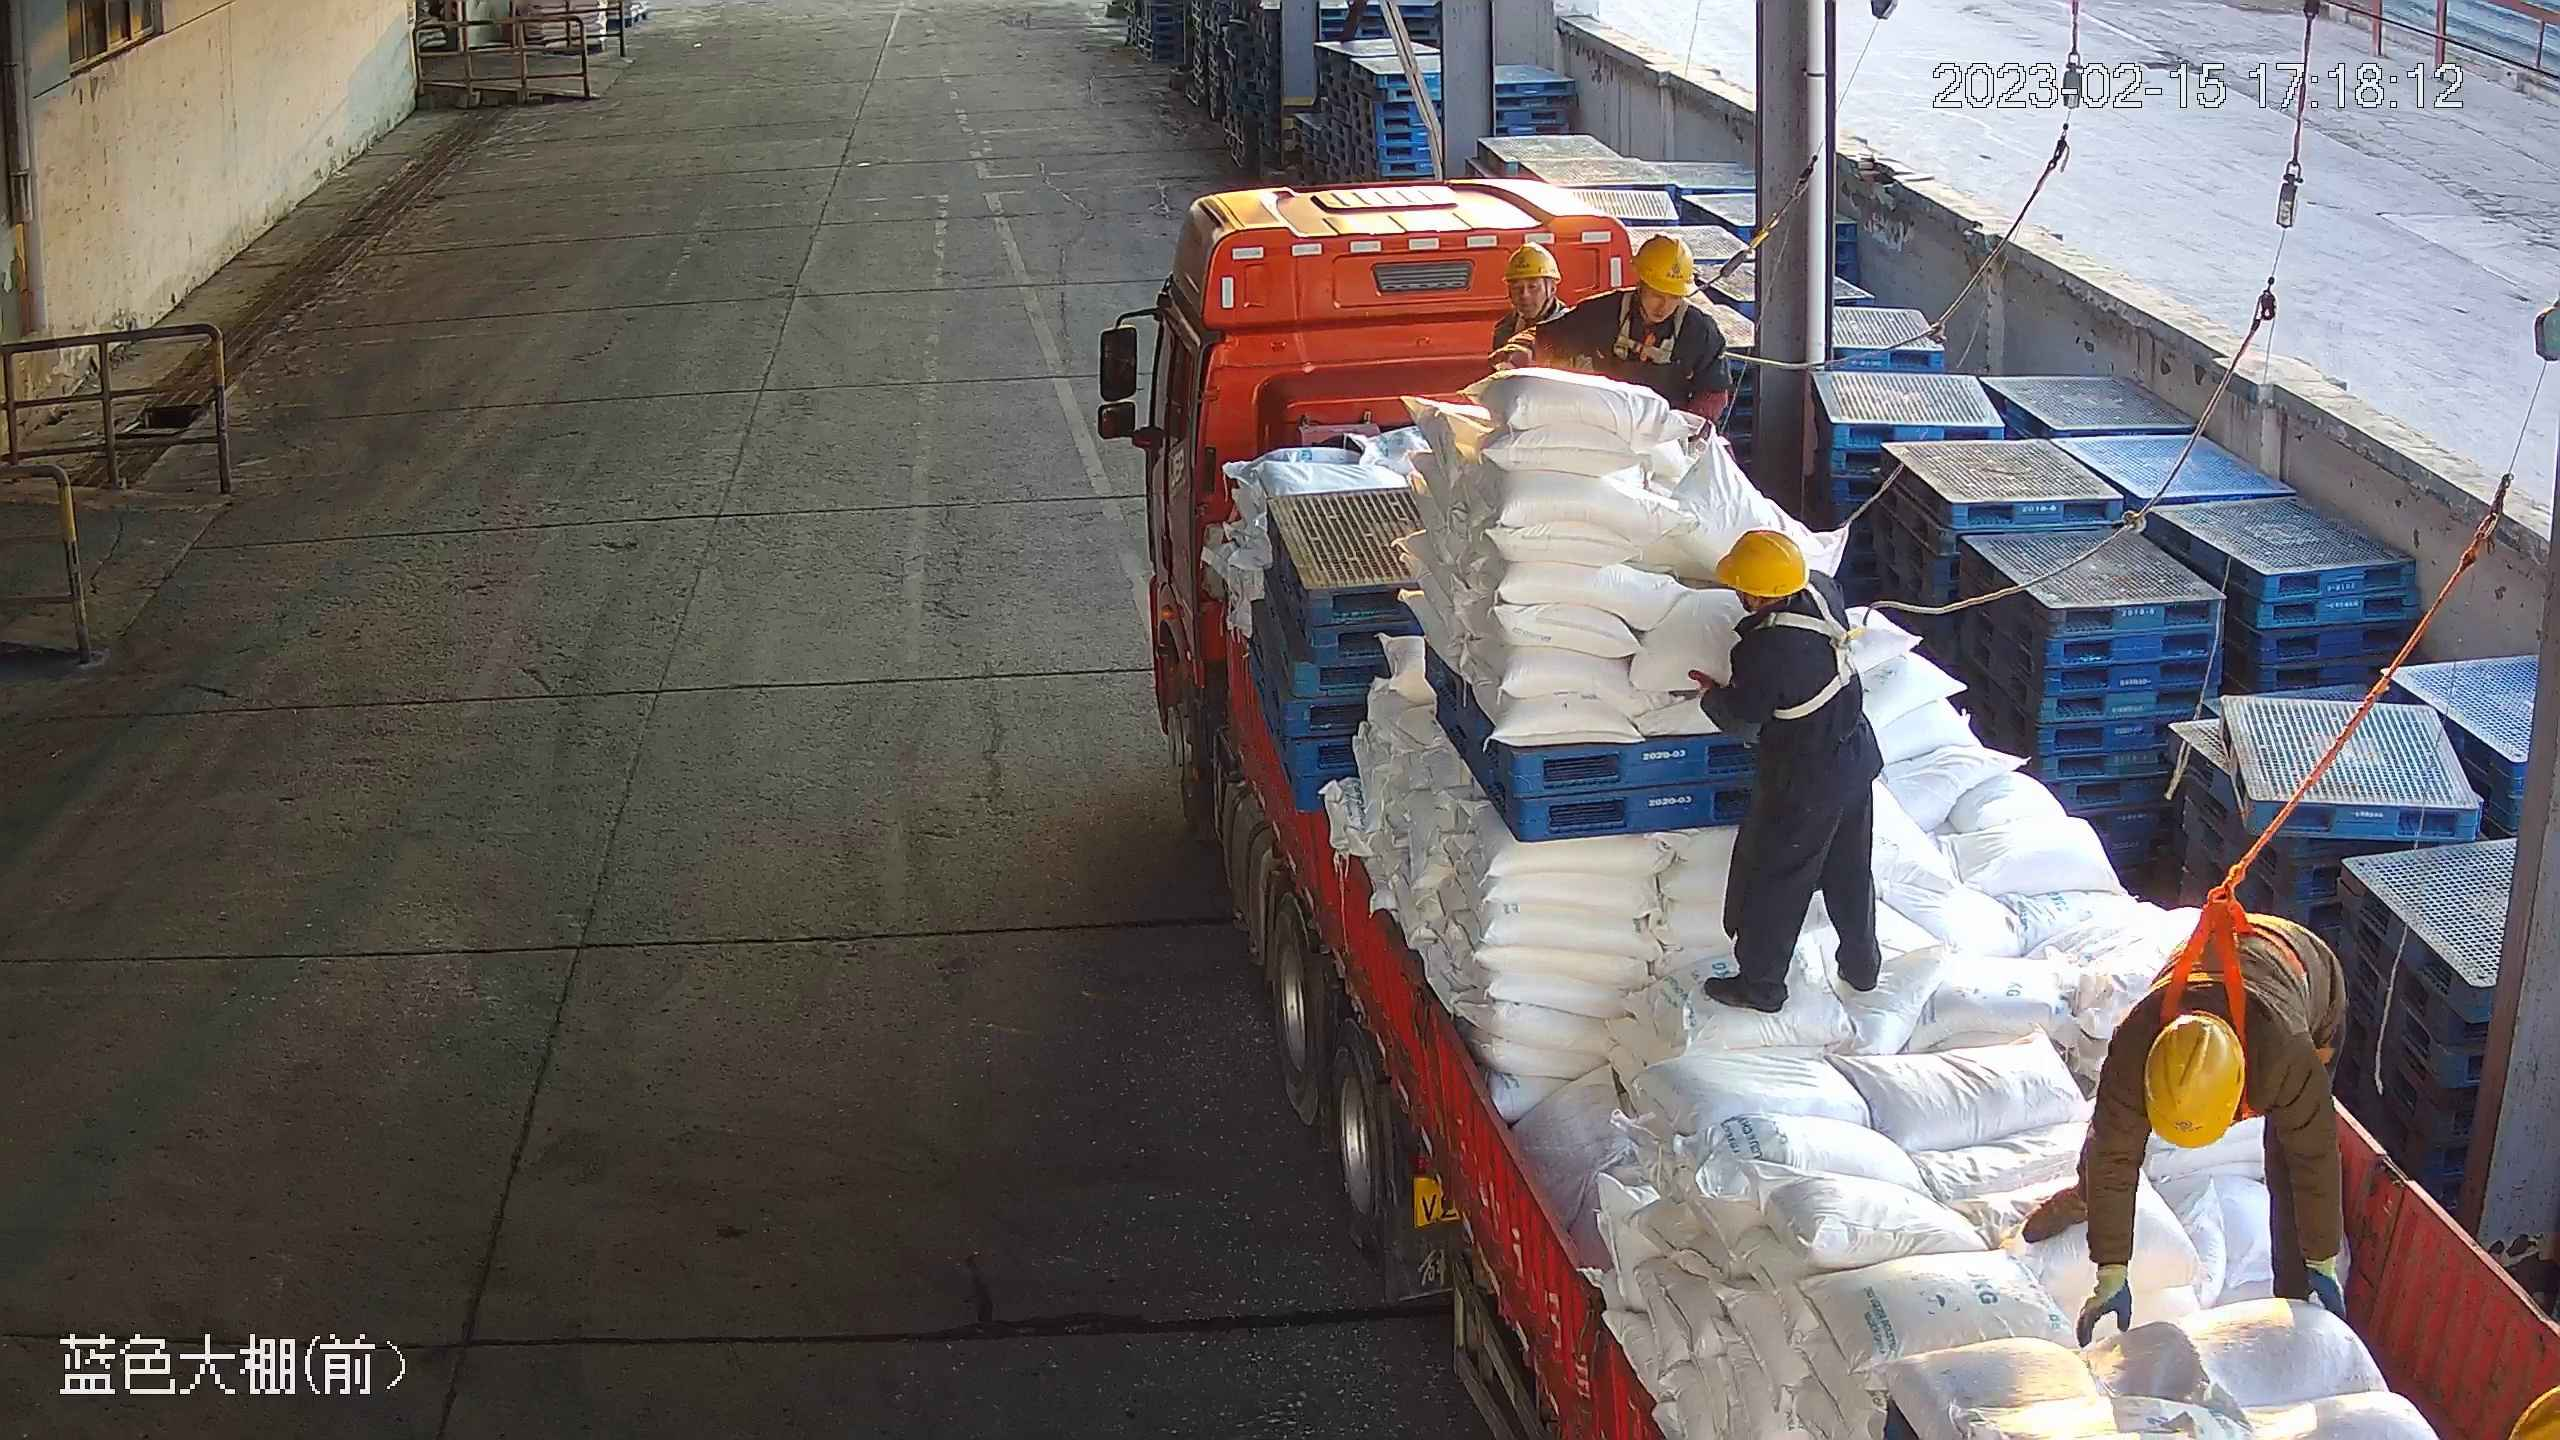belt: (2153, 886, 2297, 1017), (1774, 593, 1900, 720), (1620, 315, 1686, 369)
head: (2118, 992, 2314, 1153), (1717, 532, 1850, 667), (1602, 232, 1723, 369)
helmet: (2142, 1013, 2241, 1153), (1714, 530, 1814, 601), (1630, 232, 1699, 295), (1499, 241, 1563, 285)
people: (2023, 906, 2363, 1334), (1686, 532, 1899, 1018)
truck: (1095, 172, 2560, 1440)
